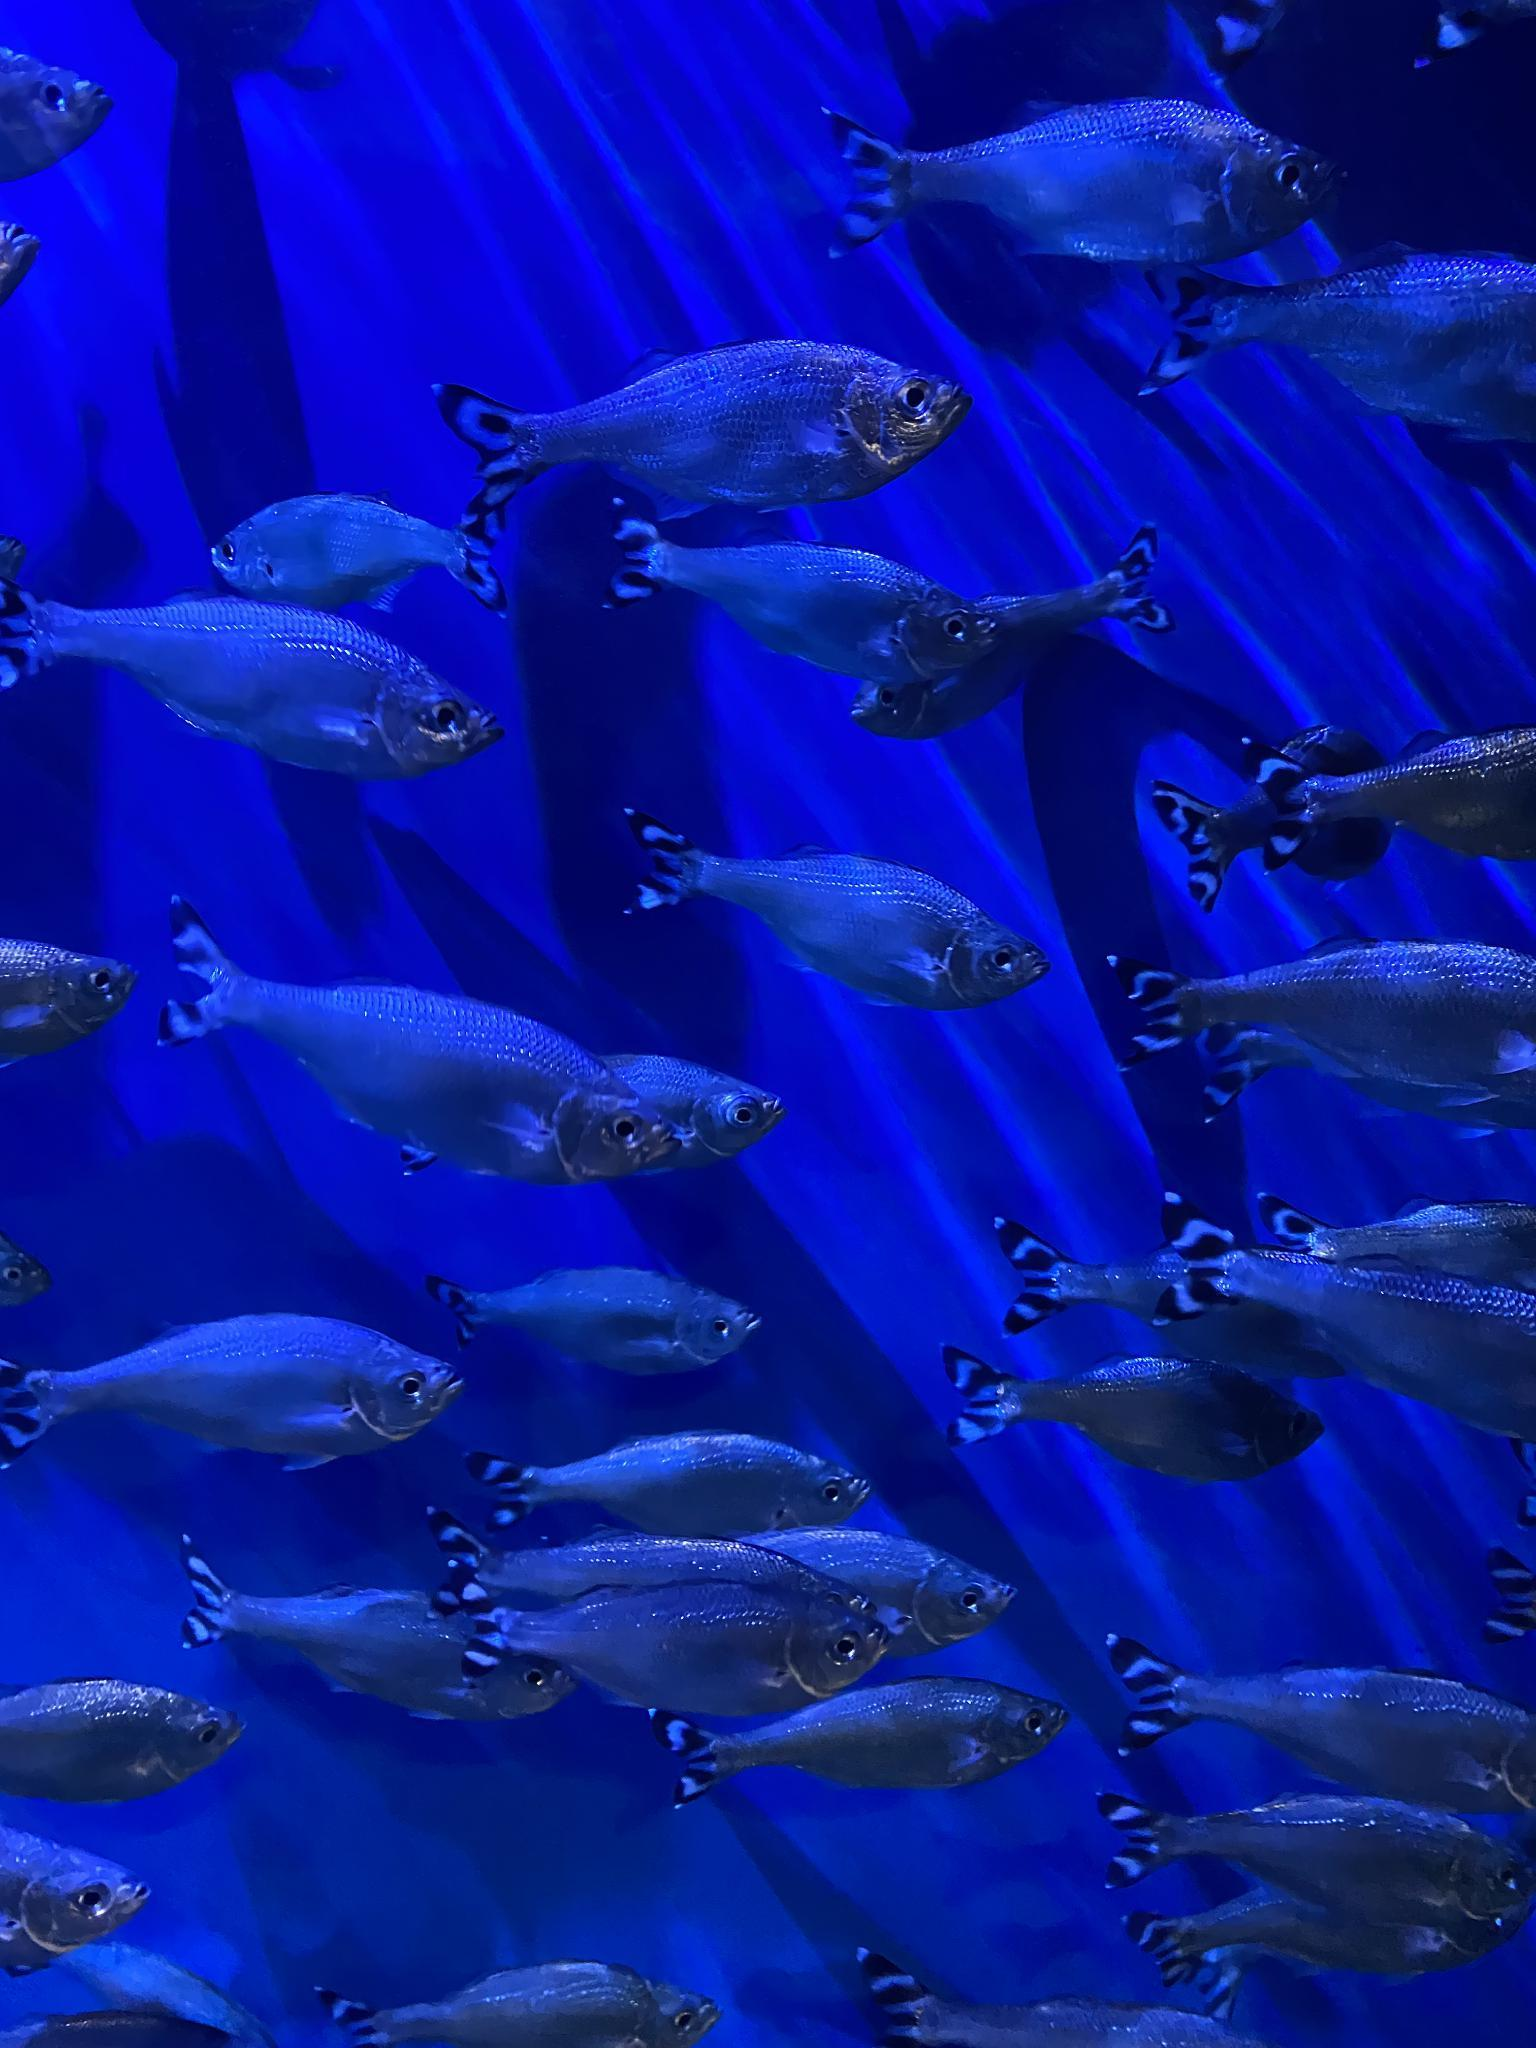fish: (160, 893, 681, 1193), (0, 564, 503, 789), (424, 334, 971, 539), (812, 89, 1347, 287), (1155, 1184, 1534, 1442), (610, 801, 1049, 1016), (419, 1500, 913, 1688), (591, 492, 991, 695), (171, 1529, 578, 1729), (1078, 924, 1534, 1098), (1096, 1630, 1534, 1809), (6, 1306, 461, 1474), (1133, 252, 1534, 439), (852, 524, 1163, 748), (445, 1564, 892, 1716), (1084, 1792, 1534, 1935), (937, 1337, 1318, 1495), (645, 1677, 1071, 1816), (1229, 724, 1536, 880), (718, 1509, 1020, 1659), (424, 1263, 768, 1390), (457, 1427, 879, 1530), (210, 484, 510, 621), (310, 1958, 724, 2048), (854, 1958, 1262, 2048), (0, 1677, 244, 1808), (579, 1047, 787, 1185), (1250, 1192, 1534, 1293), (981, 1213, 1184, 1329), (0, 1822, 150, 1979), (0, 932, 136, 1079), (1137, 777, 1260, 918), (0, 47, 123, 187), (0, 216, 40, 319)
